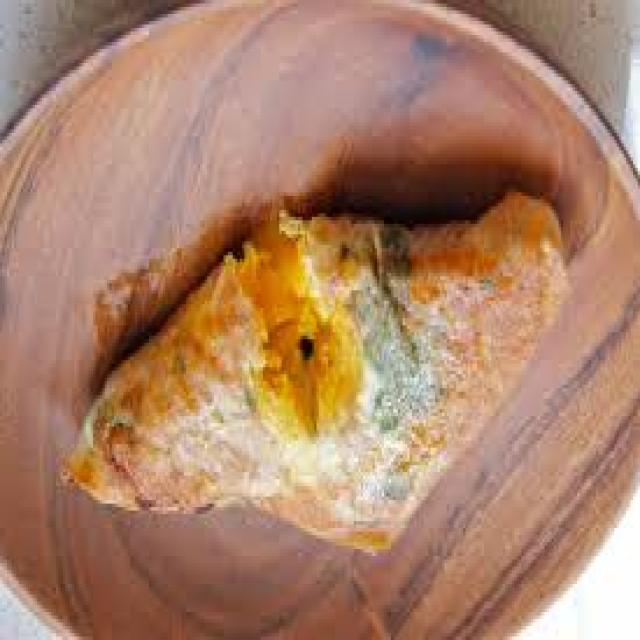brik: (59, 220, 560, 566)
